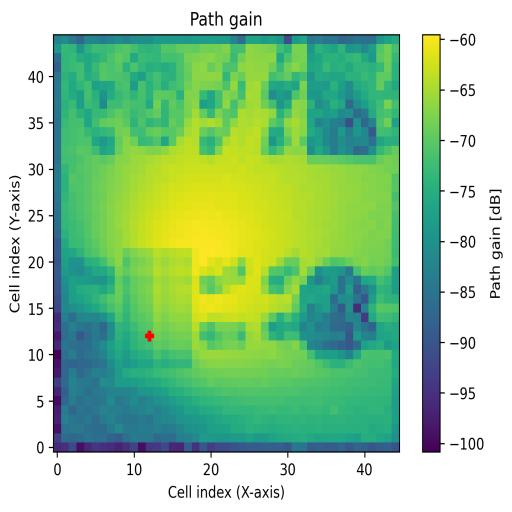Concrete: (307, 55, 377, 155)
Glass: (130, 53, 190, 146)
Metal: (298, 267, 376, 368)
Wood: (121, 248, 192, 370)
